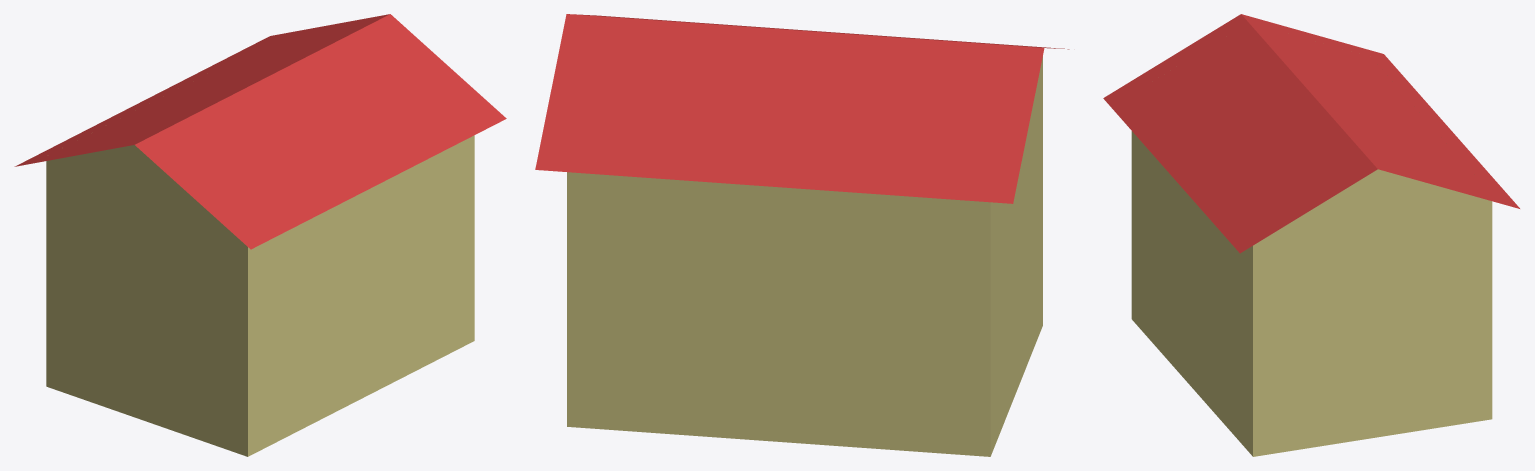
3 views of the same model, side by side, from view 1: azimuth 30°, elevation 25°; view 2: azimuth 150°, elevation 25°; view 3: azimuth 270°, elevation 25° (orthographic). The views are drawn at different scales.
Size of the model in its own units: 15.88 by 14.06 by 10.33.
